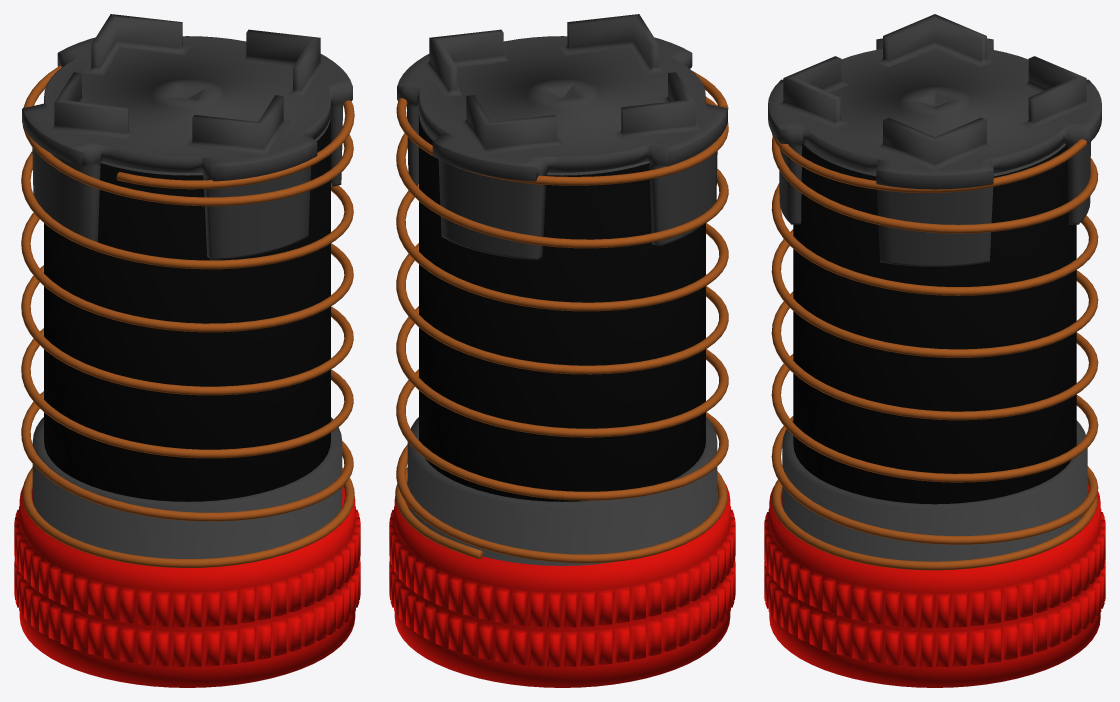
The model's file is MHD.glb.
3 views of the same model, side by side, from view 1: azimuth 30°, elevation 25°; view 2: azimuth 150°, elevation 25°; view 3: azimuth 270°, elevation 25° (orthographic).
Visible parts, largest first — view 1: TOP.004, SPRING, Plane; view 2: TOP.004, SPRING, Plane; view 3: TOP.004, SPRING, Plane.
Boxes of the visible parts, x1=… form: TOP.004: x1=14, y1=36, x2=360, y2=687; SPRING: x1=21, y1=66, x2=354, y2=567; Plane: x1=49, y1=14, x2=325, y2=155; TOP.004: x1=389, y1=36, x2=735, y2=687; SPRING: x1=395, y1=71, x2=728, y2=563; Plane: x1=424, y1=14, x2=700, y2=155; TOP.004: x1=764, y1=38, x2=1105, y2=687; SPRING: x1=771, y1=132, x2=1098, y2=570; Plane: x1=777, y1=14, x2=1092, y2=170.
Size of the model in its own units: 13.48 by 23.47 by 13.46.
